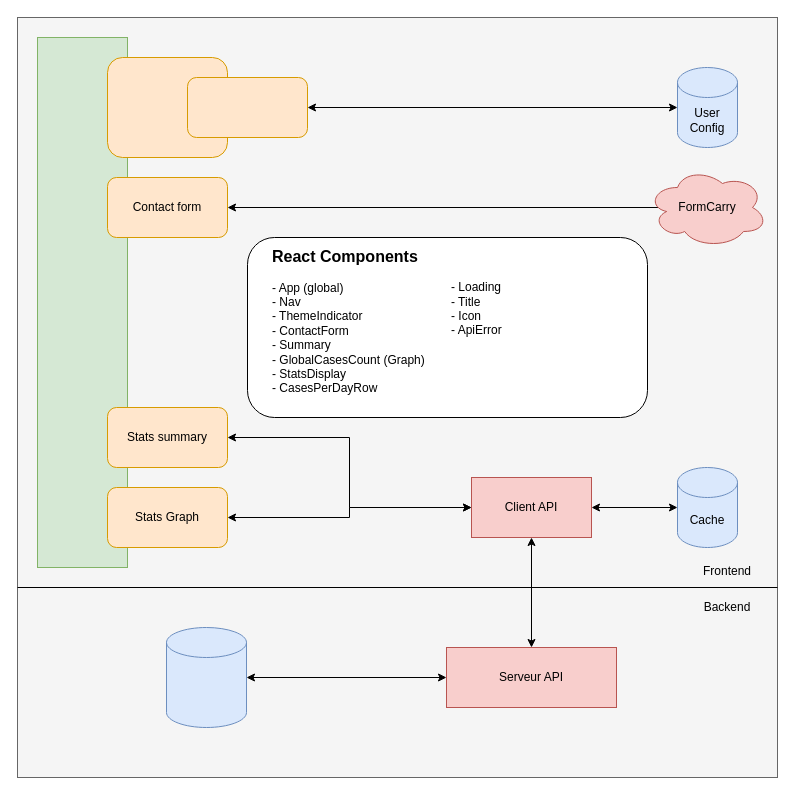
Image size: 796x795. Some labels were removed from this diagram. Here are the shapes that lost their labels. From the top down, the centre of each, then its label:
At (167,107): "Nav bar".
At (247,107): "Theme Indicator".
At (82,302): "Page".
At (206,677): "MongoDB".
